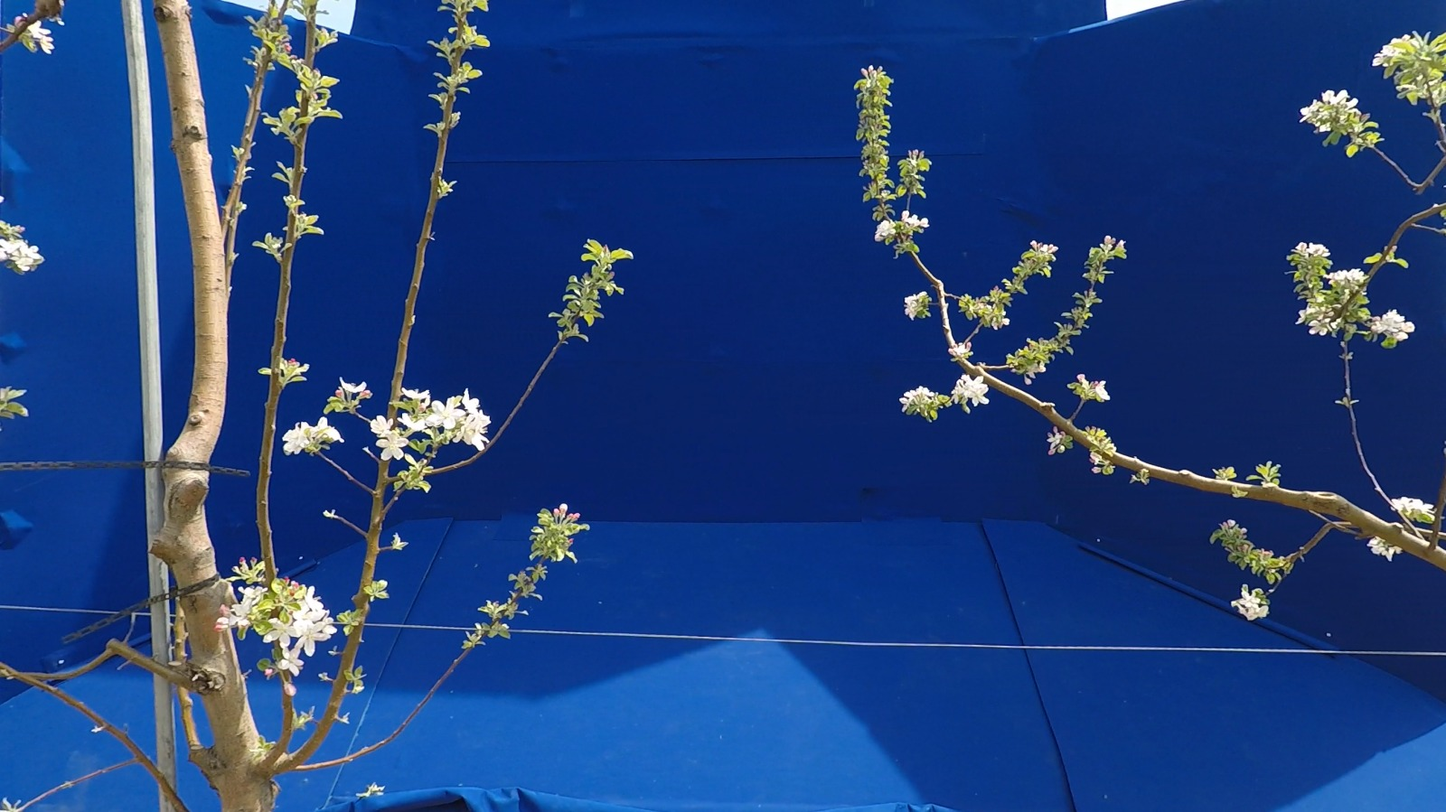flower: (370, 388, 492, 461), (264, 587, 337, 677), (283, 417, 344, 455), (217, 586, 268, 629), (949, 375, 990, 414), (876, 211, 929, 241), (0, 237, 43, 271), (1368, 311, 1415, 341), (1232, 588, 1269, 621), (1392, 498, 1435, 521), (900, 387, 937, 412), (27, 21, 54, 54), (1368, 537, 1403, 562), (1322, 90, 1358, 111), (1324, 269, 1369, 285), (1304, 236, 1338, 257), (399, 387, 430, 410), (341, 378, 367, 403), (905, 292, 926, 321), (1300, 100, 1324, 124), (1047, 427, 1066, 455), (1089, 381, 1110, 400), (949, 343, 972, 358), (948, 333, 952, 341), (1317, 126, 1320, 132)
